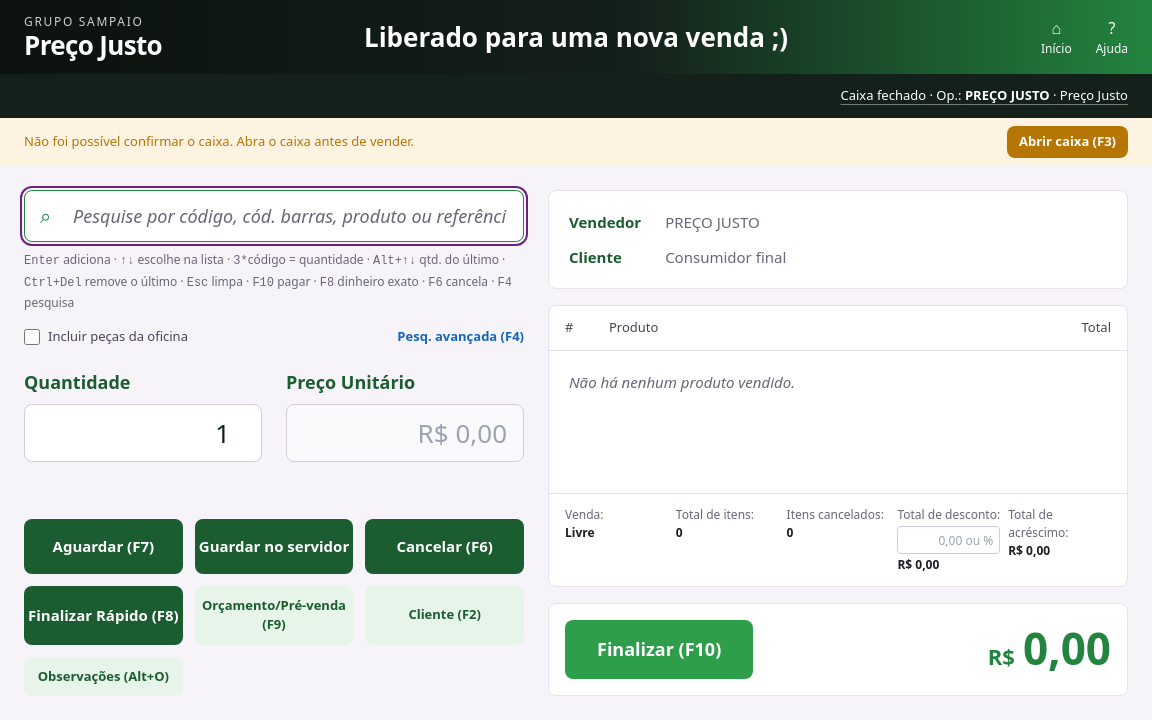
Test: L. busca por nome e escolha pela seta › Ctrl+Del tira o último item do carrinho
In the field labelled "Pesquise por código, cód. barras, produto ou referência": x=274, y=216 [24,190,524,242], type "7898215151784"
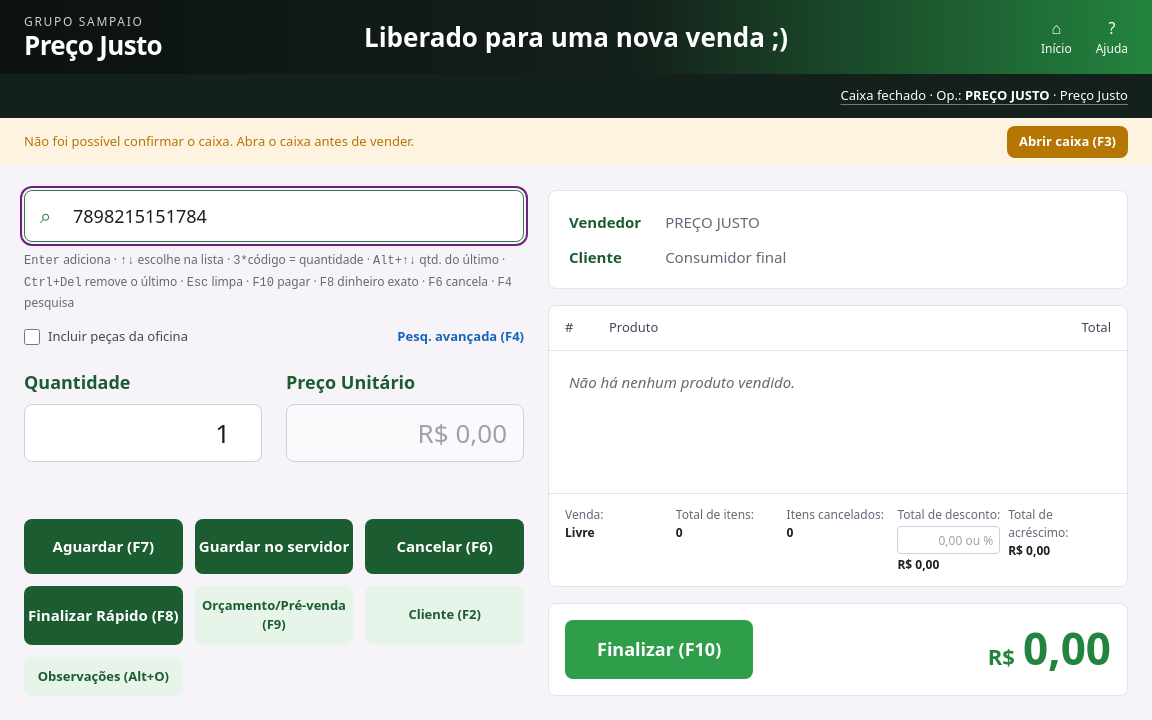
Press Enter in the field named "Pesquise por código", box [24,190,524,242]
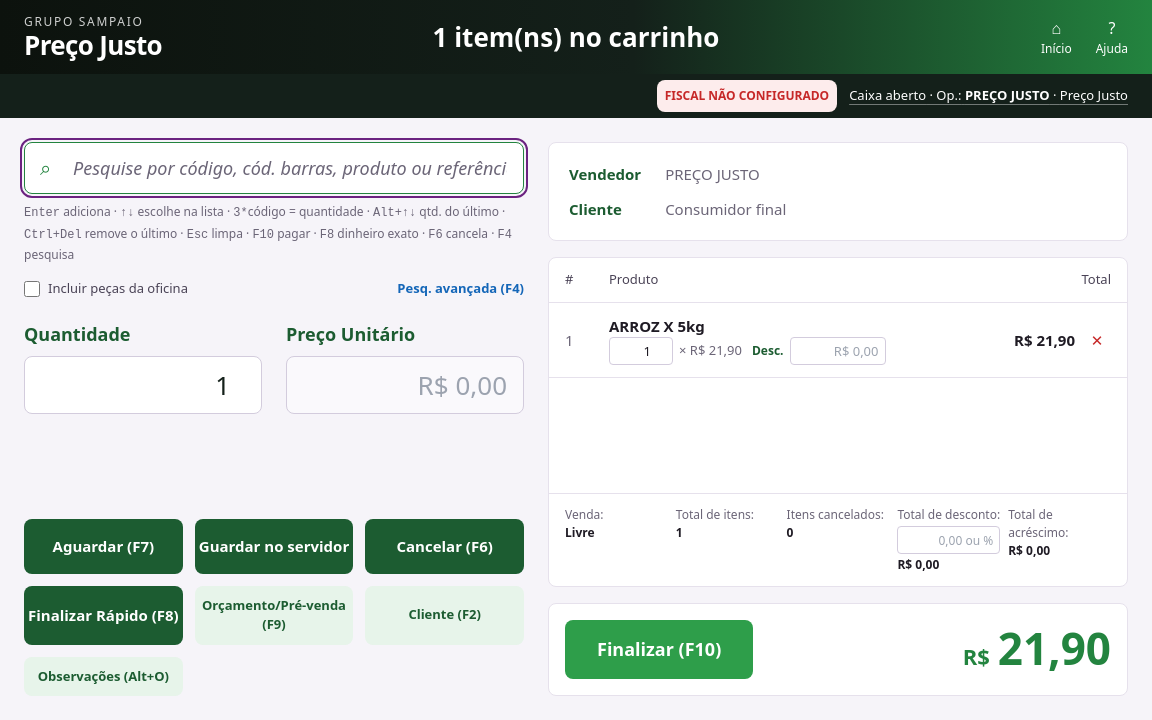
Expected: the text "ARROZ X 5kg" is shown, [609,316,705,336]
Press Delete in the field labelled "Pesquise por código, cód. barras, produto ou referência", box [24,142,524,194]
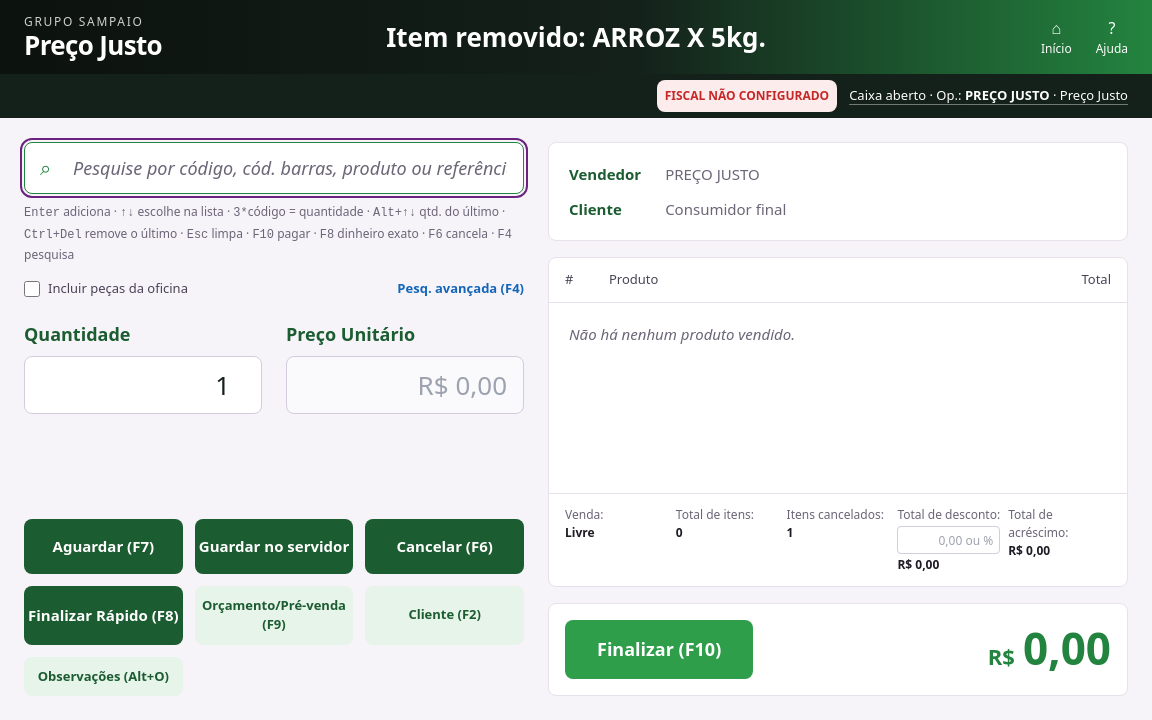
Expected: the text "Item removido: ARROZ X 5kg." is shown, [370,18,782,56]
